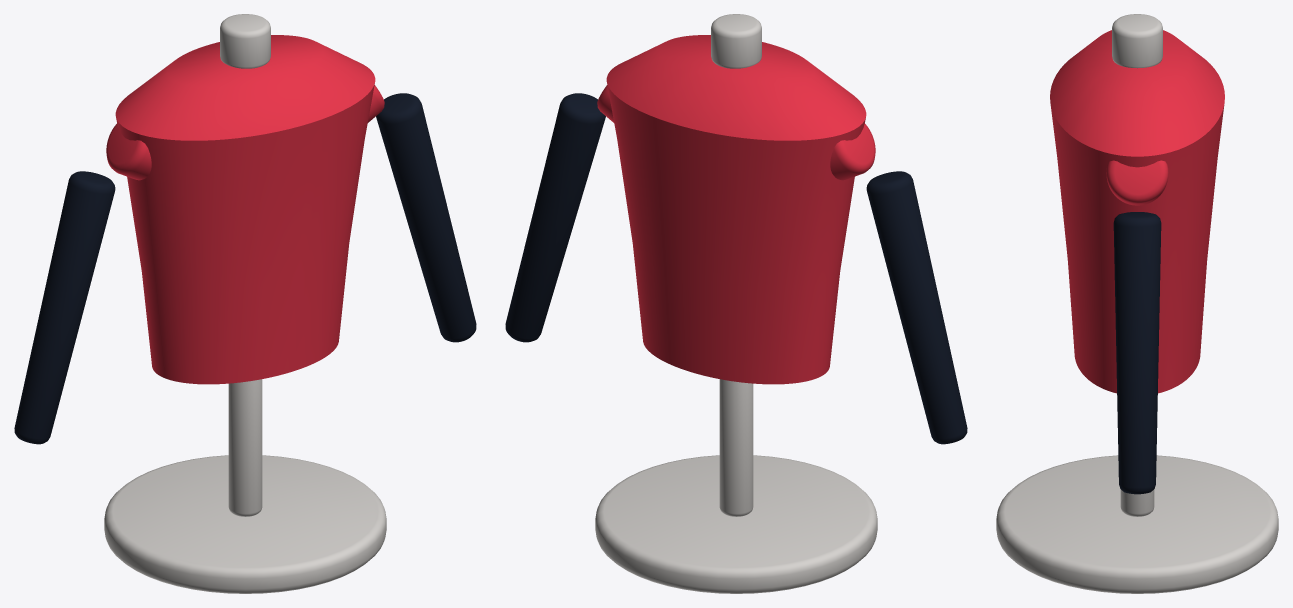
The model's file is reward-sleeves-black.glb.
3 renders of one model, left to right at view 1: azimuth 30°, elevation 25°; view 2: azimuth 150°, elevation 25°; view 3: azimuth 270°, elevation 25°, orthographic.
Parts seen in each view (by area): view 1: torso, foot, sleeve.001, sleeve, pole, neck, cap.001; view 2: torso, foot, sleeve.001, sleeve, pole, neck, cap.001; view 3: torso, foot, sleeve, neck, cap, pole.
Part boxes in pixels (x1=…): torso: x1=115, y1=35, x2=375, y2=384; foot: x1=104, y1=455, x2=386, y2=593; sleeve.001: x1=14, y1=171, x2=115, y2=444; sleeve: x1=376, y1=93, x2=476, y2=342; pole: x1=228, y1=379, x2=262, y2=516; neck: x1=220, y1=14, x2=270, y2=68; cap.001: x1=106, y1=123, x2=151, y2=180; torso: x1=606, y1=35, x2=866, y2=384; foot: x1=595, y1=455, x2=877, y2=593; sleeve.001: x1=866, y1=171, x2=967, y2=444; sleeve: x1=505, y1=93, x2=605, y2=342; pole: x1=719, y1=379, x2=753, y2=516; neck: x1=711, y1=14, x2=761, y2=68; cap.001: x1=830, y1=123, x2=875, y2=180; torso: x1=1050, y1=30, x2=1224, y2=393; foot: x1=996, y1=455, x2=1278, y2=593; sleeve: x1=1113, y1=212, x2=1161, y2=494; neck: x1=1112, y1=14, x2=1162, y2=68; cap: x1=1106, y1=160, x2=1168, y2=205; pole: x1=1120, y1=489, x2=1154, y2=516.
Bounding box in the file's own units: 2.71 × 2.91 × 1.45.
